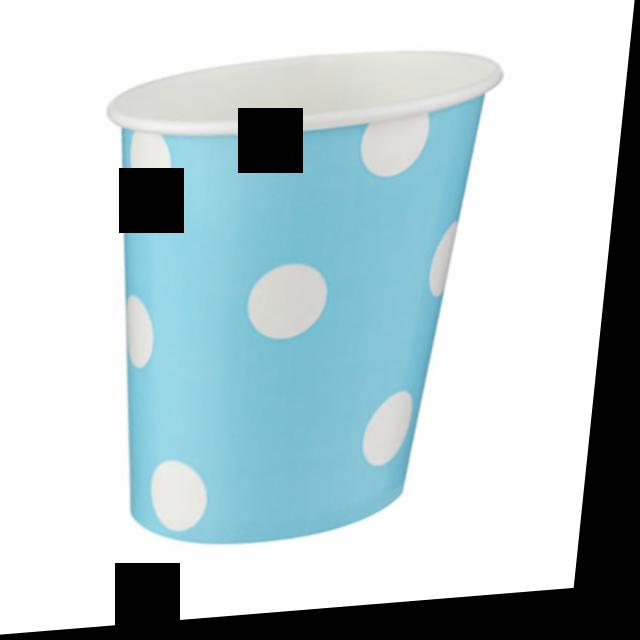karton-bardak: (84, 19, 510, 558)
